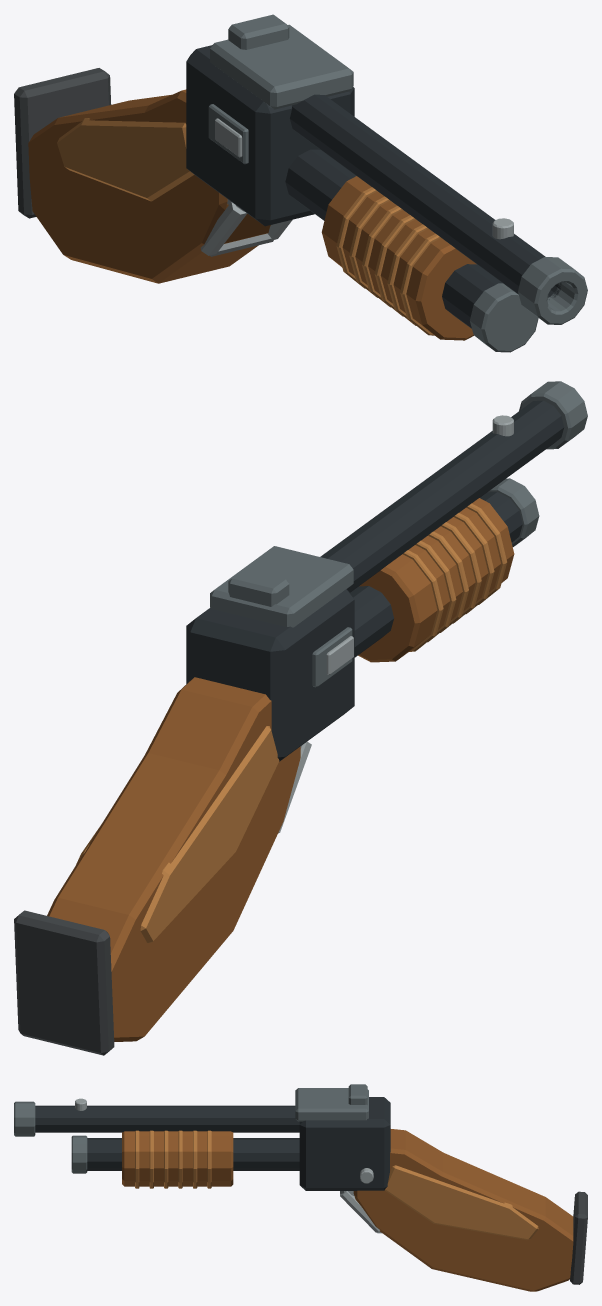
File: Reminton870.glb
3 views of the same model, one above another, from view 1: azimuth 30°, elevation 25°; view 2: azimuth 150°, elevation 25°; view 3: azimuth 270°, elevation 25° (orthographic). The views are drawn at different scales.
Visible parts, largest first — view 1: FTF_Weapon_Remington870_PumpShotgun_Mesh; view 2: FTF_Weapon_Remington870_PumpShotgun_Mesh; view 3: FTF_Weapon_Remington870_PumpShotgun_Mesh.
Boxes of the visible parts, x1=… form: FTF_Weapon_Remington870_PumpShotgun_Mesh: x1=14, y1=14, x2=587, y2=352; FTF_Weapon_Remington870_PumpShotgun_Mesh: x1=14, y1=381, x2=587, y2=1055; FTF_Weapon_Remington870_PumpShotgun_Mesh: x1=14, y1=1084, x2=587, y2=1291.
Size of the model in its own units: 0.271 by 0.7341 by 1.99.
